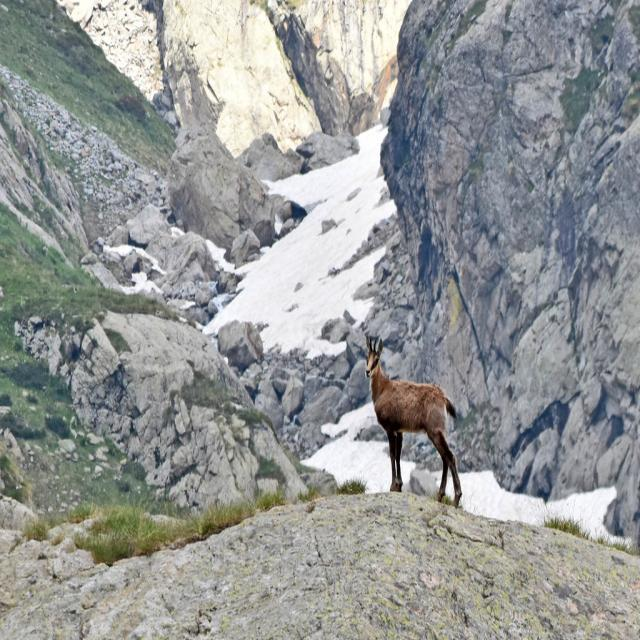Goat: (364, 334, 462, 507)
